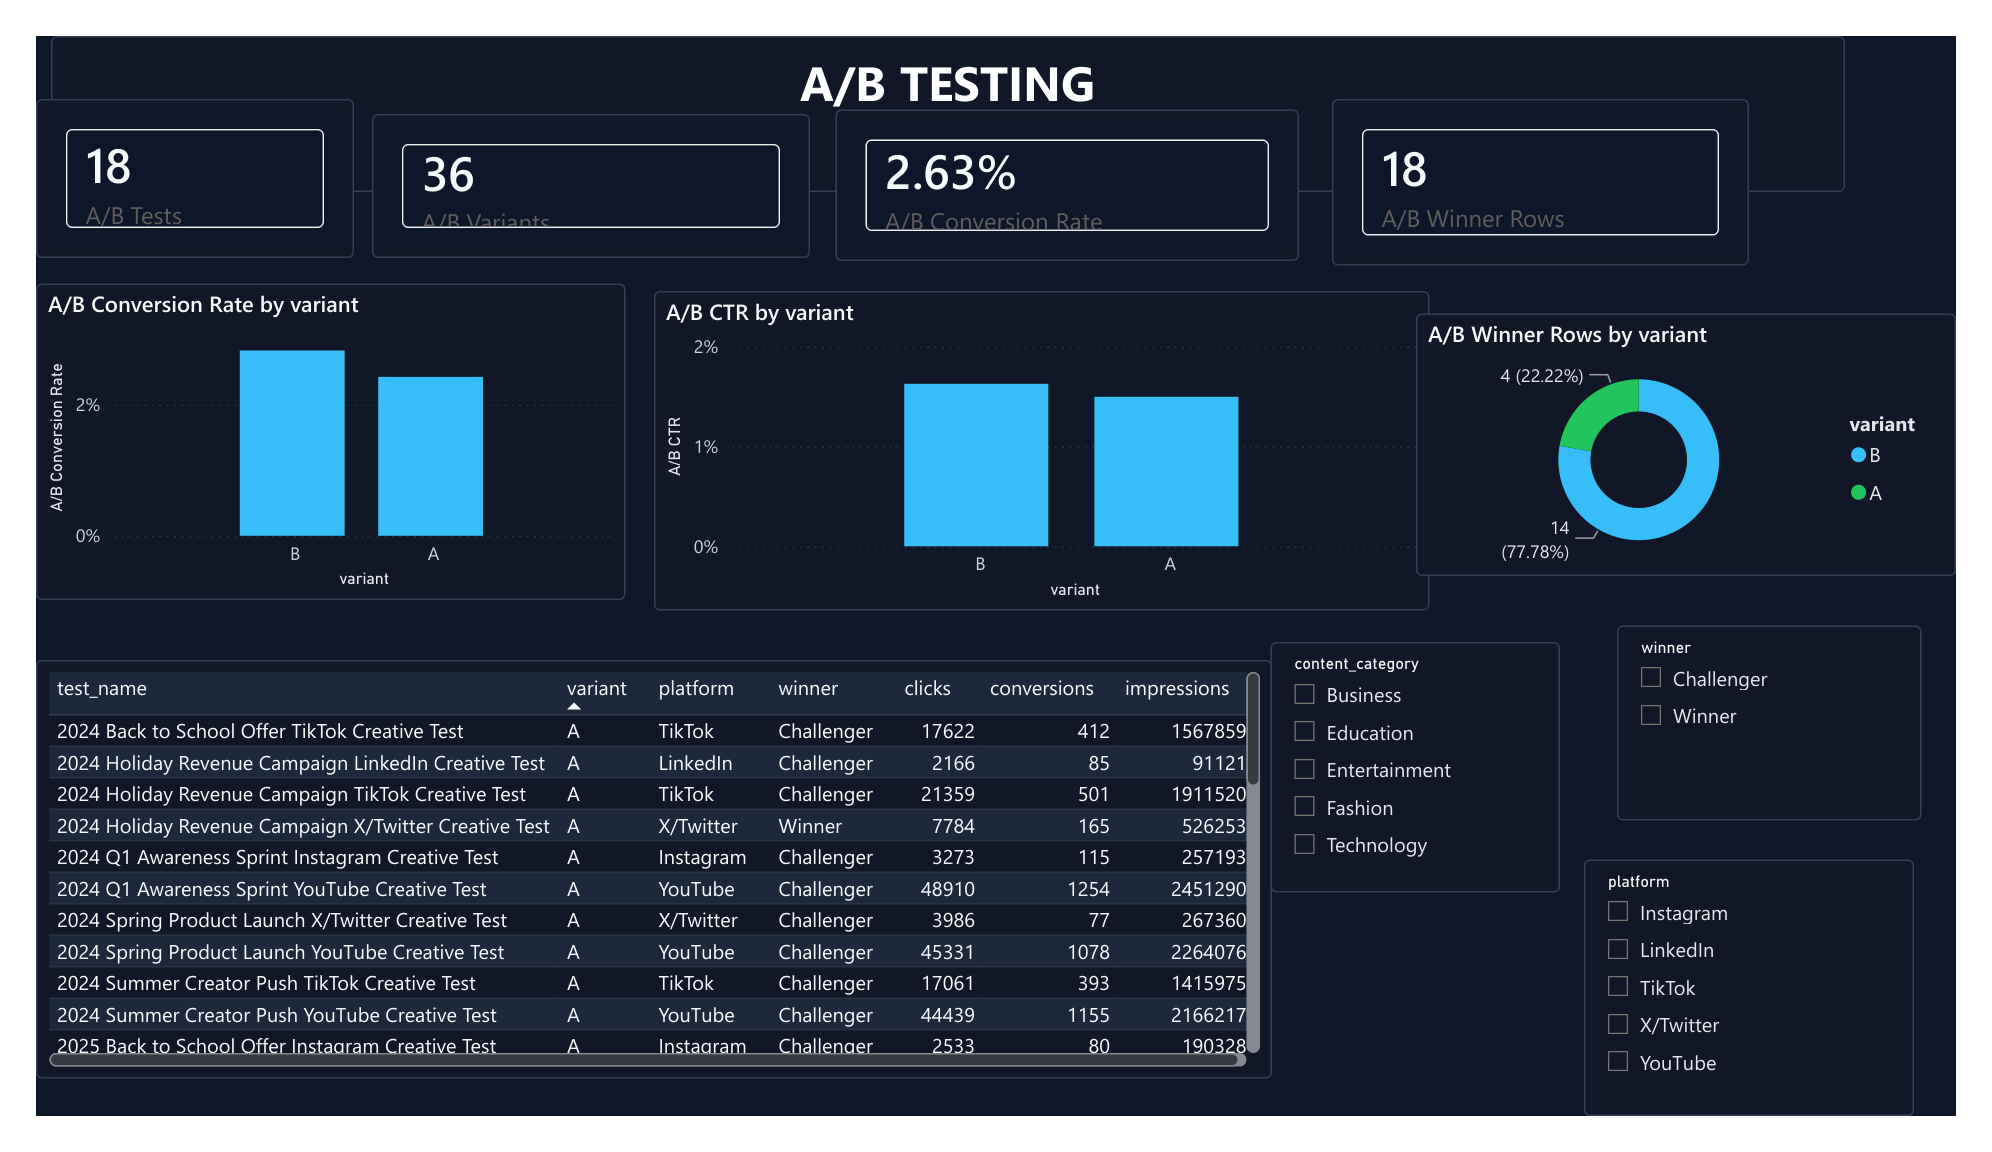

The page's visual inventory and layout, read from the dashboard file:
{"tool":"powerbi","page":{"name":"A/B Testing","canvas":[1280,720],"ordinal":5},"visuals":[{"type":"textbox","box":[9.8,0,1196.3,103.7],"z":0},{"type":"cardVisual","fields":{"Data":["ab_tests.A/B Tests"]},"box":[0,63.4,212.2,106.1],"z":1000},{"type":"cardVisual","fields":{"Data":["ab_tests.A/B Variants"]},"box":[212.2,67.1,291.5,97.6],"z":2000},{"type":"cardVisual","fields":{"Data":["ab_tests.A/B Conversion Rate"]},"box":[554.9,63.4,309.8,101.2],"z":3000},{"type":"cardVisual","fields":{"Data":["ab_tests.A/B Winner Rows"]},"box":[891.5,52.4,279.3,112.2],"z":4000},{"type":"clusteredColumnChart","fields":{"Category":["ab_tests.variant"],"Y":["ab_tests.A/B Conversion Rate"]},"box":[0,164.6,392.7,211],"z":5000},{"type":"clusteredColumnChart","fields":{"Category":["ab_tests.variant"],"Y":["ab_tests.A/B CTR"]},"box":[412.2,169.5,517.1,213.4],"z":6000},{"type":"donutChart","fields":{"Category":["ab_tests.variant"],"Y":["ab_tests.A/B Winner Rows"]},"box":[919.5,185.4,361,174.4],"z":7000},{"type":"tableEx","fields":{"Values":["ab_tests.test_name","ab_tests.variant","ab_tests.platform","ab_tests.winner","ab_tests.clicks","ab_tests.conversions","ab_tests.impressions"]},"box":[0,415.9,824.4,279.3],"z":8000},{"type":"slicer","fields":{"Values":["ab_tests.content_category"]},"box":[823.2,403.7,192.7,167.1],"z":8001},{"type":"slicer","fields":{"Values":["ab_tests.winner"]},"box":[1053.7,392.7,203.7,130.5],"z":8002},{"type":"slicer","fields":{"Values":["ab_tests.platform"]},"box":[1031.7,523.2,220.7,172],"z":8003}]}

Visuals, with their boxes in screenshot pixels (x1, y1, x2, y2), scaled from the page's 1280x720 canvas onto the 1992x1152 screenshot:
textbox: BBox(15, 0, 1877, 166)
cardVisual - ab_tests.A/B Tests: BBox(0, 101, 330, 271)
cardVisual - ab_tests.A/B Variants: BBox(330, 107, 784, 264)
cardVisual - ab_tests.A/B Conversion Rate: BBox(864, 101, 1346, 263)
cardVisual - ab_tests.A/B Winner Rows: BBox(1387, 84, 1822, 263)
clusteredColumnChart - ab_tests.variant x ab_tests.A/B Conversion Rate: BBox(0, 263, 611, 601)
clusteredColumnChart - ab_tests.variant x ab_tests.A/B CTR: BBox(641, 271, 1446, 613)
donutChart - ab_tests.variant x ab_tests.A/B Winner Rows: BBox(1431, 297, 1991, 576)
tableEx - ab_tests.test_name x ab_tests.variant: BBox(0, 665, 1283, 1112)
slicer - ab_tests.content_category: BBox(1281, 646, 1581, 913)
slicer - ab_tests.winner: BBox(1640, 628, 1957, 837)
slicer - ab_tests.platform: BBox(1606, 837, 1949, 1112)
